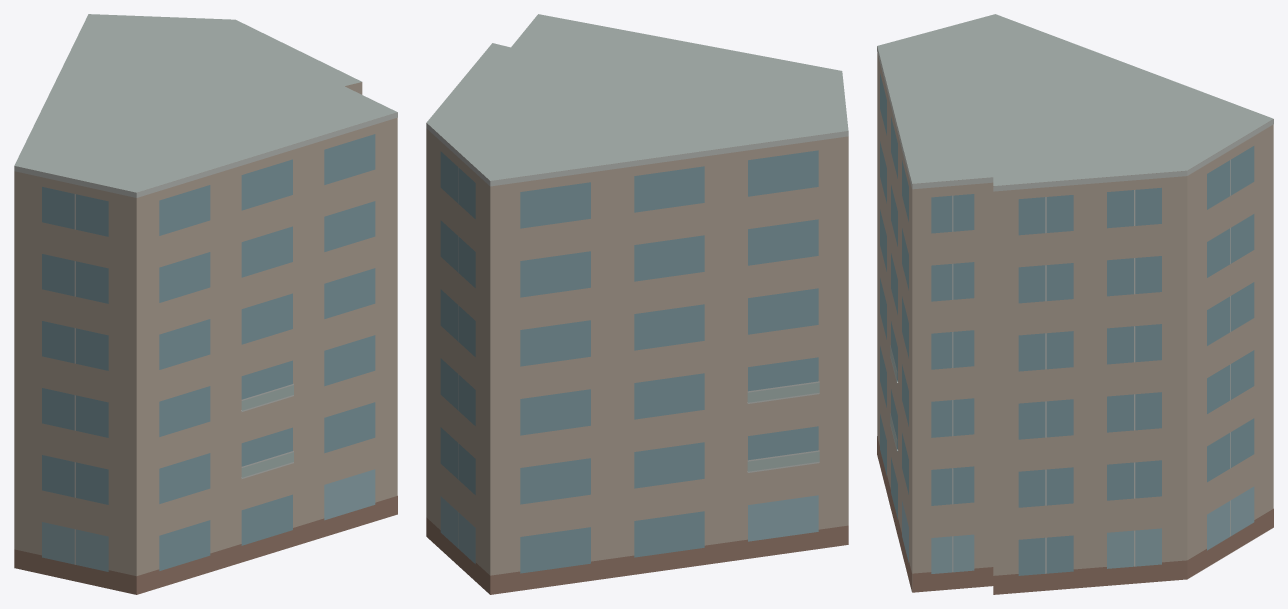
The model's file is survey-upis-32538590.glb.
3 renders of one model, left to right at view 1: azimuth 30°, elevation 25°; view 2: azimuth 150°, elevation 25°; view 3: azimuth 270°, elevation 25°, orthographic. The views are drawn at different scales.
Parts seen in each view (by area): view 1: survey-upis-32538590.tmp; view 2: survey-upis-32538590.tmp; view 3: survey-upis-32538590.tmp.
Boxes of the visible parts, x1,y1,x2,y2 form: survey-upis-32538590.tmp: (14,14,397,594); survey-upis-32538590.tmp: (426,14,848,594); survey-upis-32538590.tmp: (877,14,1273,594).
Bounding box in the file's own units: 16.54 × 18.3 × 16.1.
